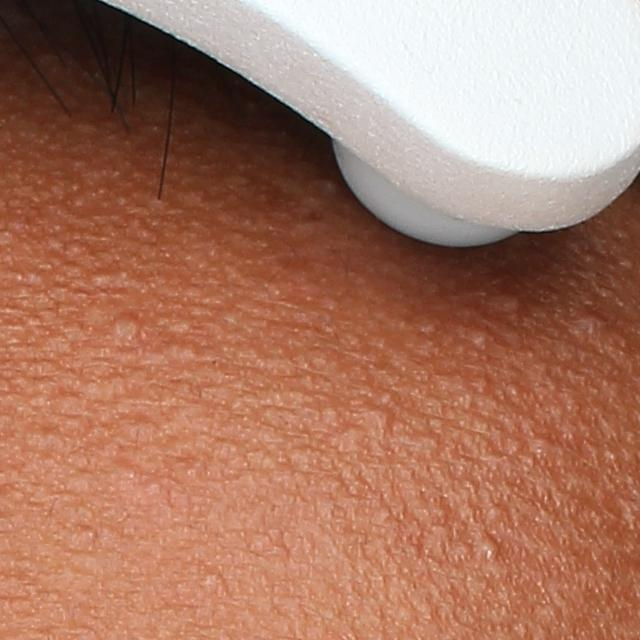comedo: (365, 405, 400, 437), (112, 313, 143, 347), (573, 310, 608, 337), (476, 531, 500, 566), (497, 291, 526, 319), (529, 431, 557, 457), (470, 327, 495, 351), (201, 568, 225, 586)
